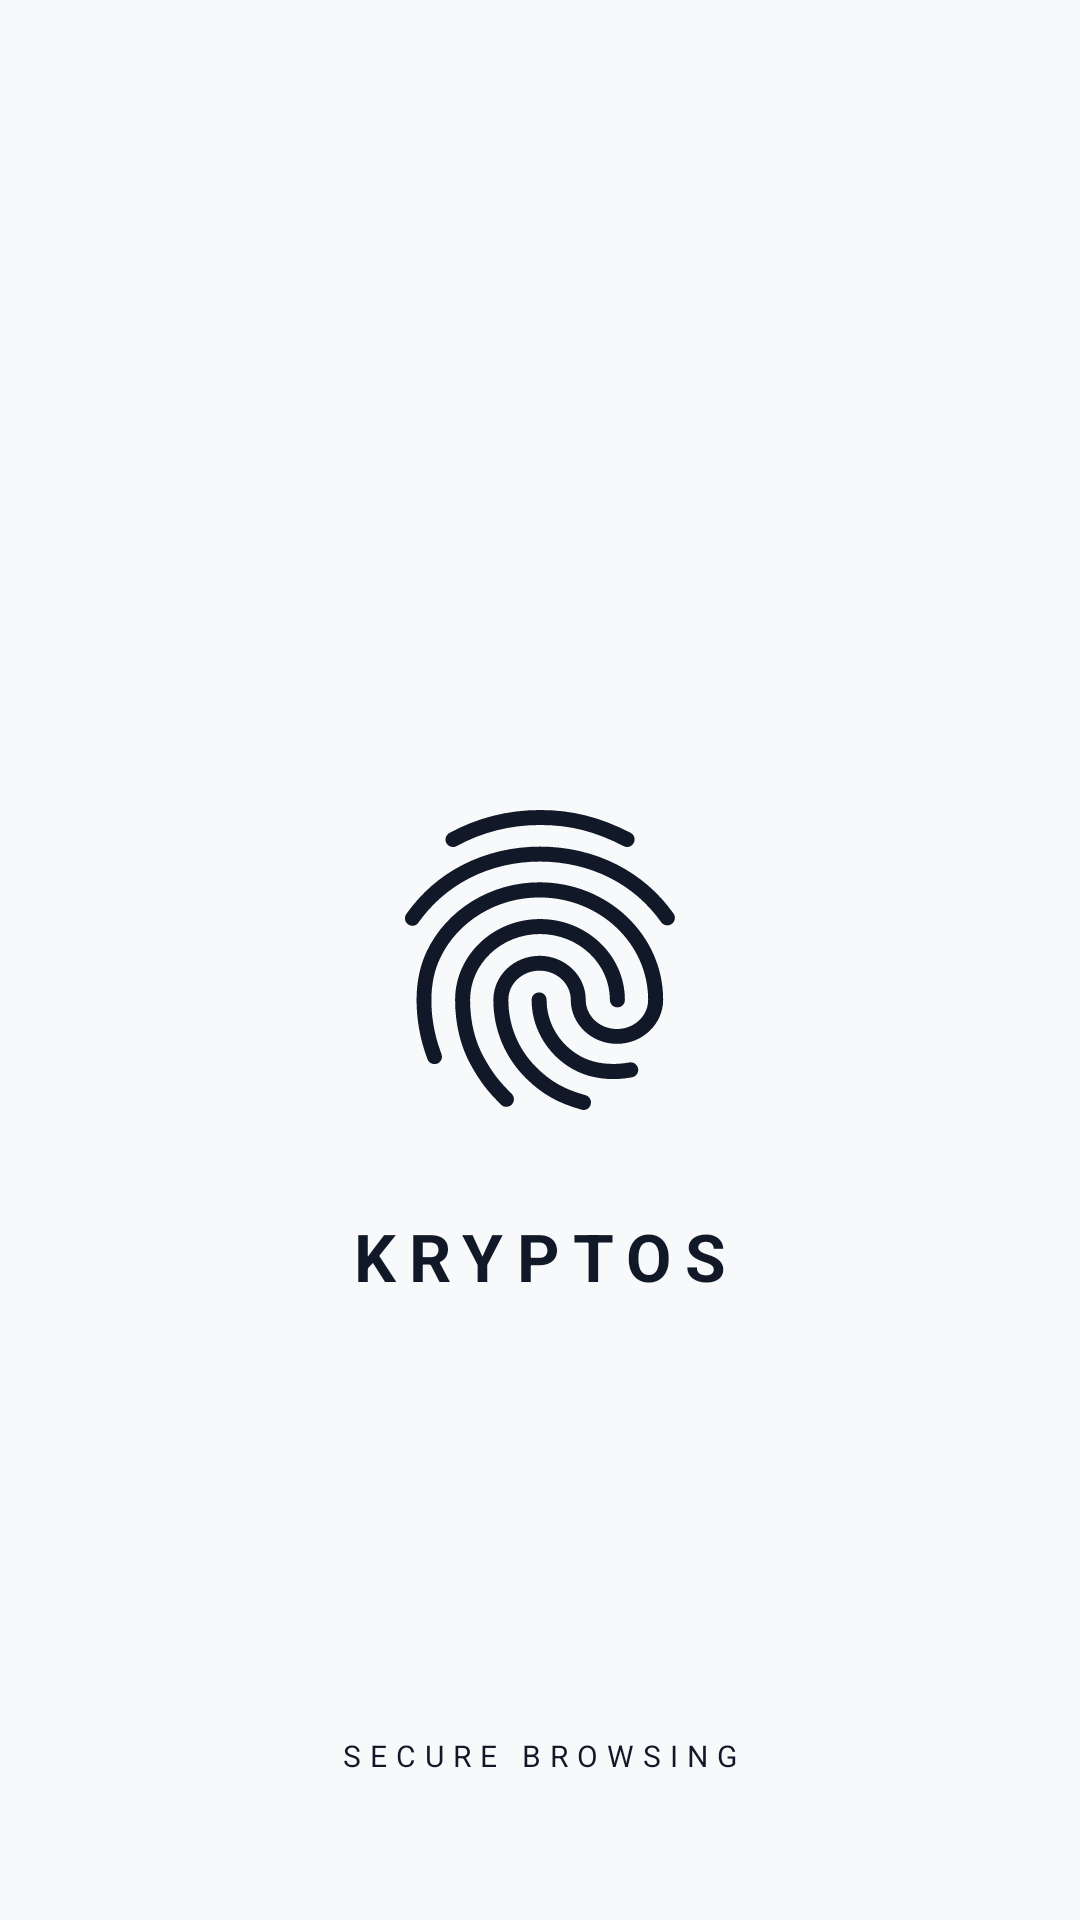

Icons on this 1080px×1920px Android screen, each with its box as box=[x1, y1, x2, y2]:
fingerprint: box=[405, 810, 675, 1110]
